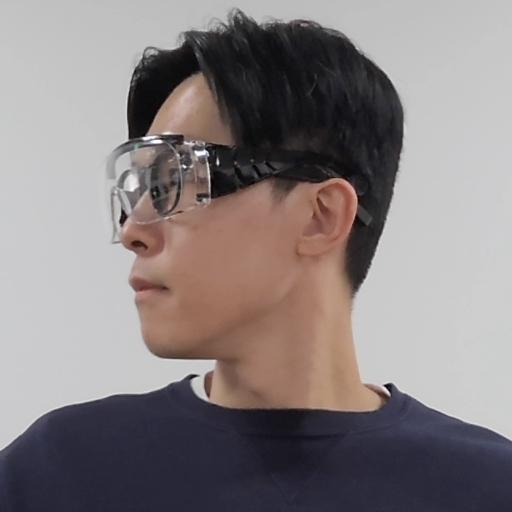glasses: (96, 26, 412, 360)
